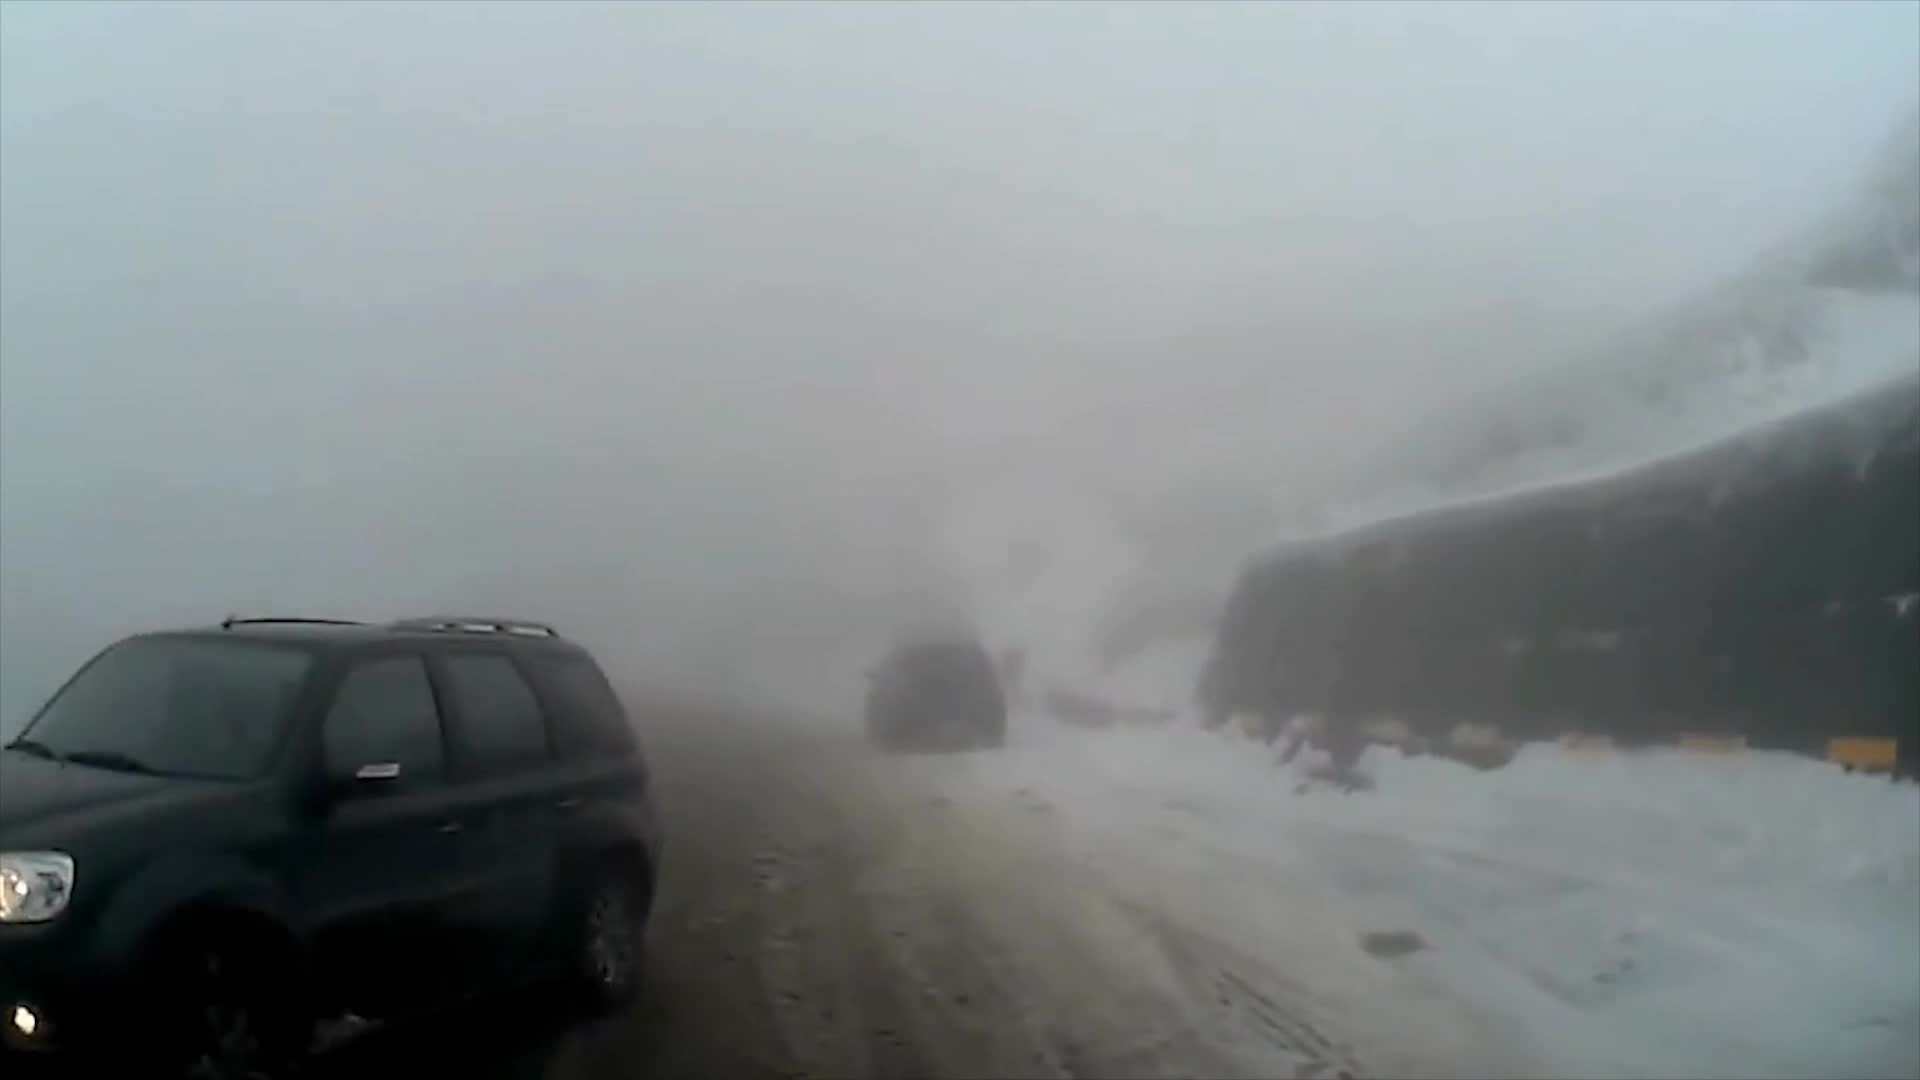vehicle: (0, 611, 661, 1077), (858, 629, 1005, 754)
